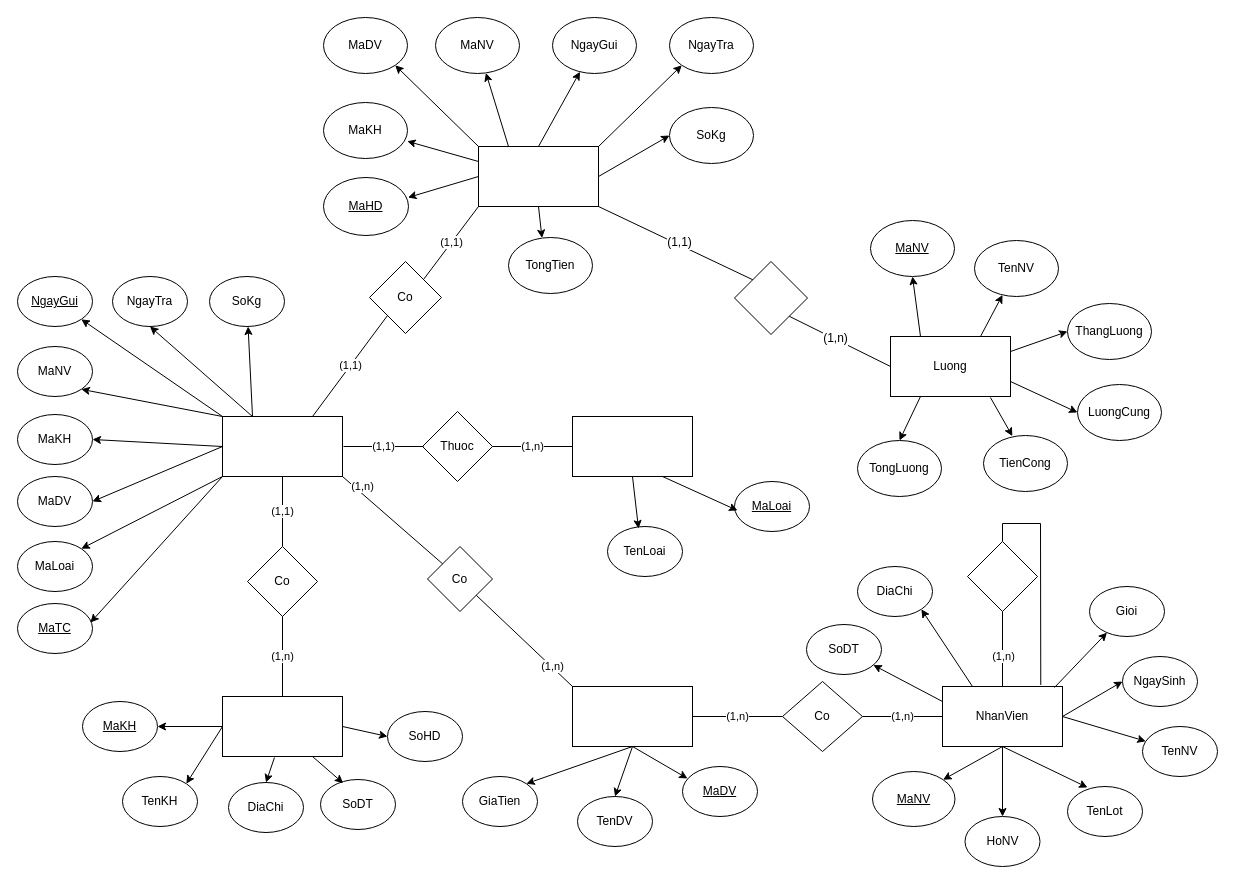
This 1235x884 diagram has some shape labels left out. Each missing label, with the centre of its shape:
"DichVu" goes at point 632,716.
"HoaDon" goes at point 538,176.
"KhachHang" goes at point 282,726.
"LienQuan" goes at point 771,297.
"Loai" goes at point 632,446.
"MaNQL" goes at point 1002,576.
"ThuCung" goes at point 282,446.
